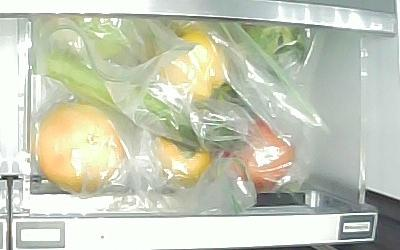apple_vinyl: (222, 117, 294, 196)
broccoli_vinyl: (240, 23, 307, 67)
cucumber_vinyl: (33, 50, 247, 146)
grapefruit_vinyl: (35, 101, 127, 196)
paprika_vinyl: (146, 23, 227, 103)
persimmon_vinyl: (147, 128, 215, 190)
